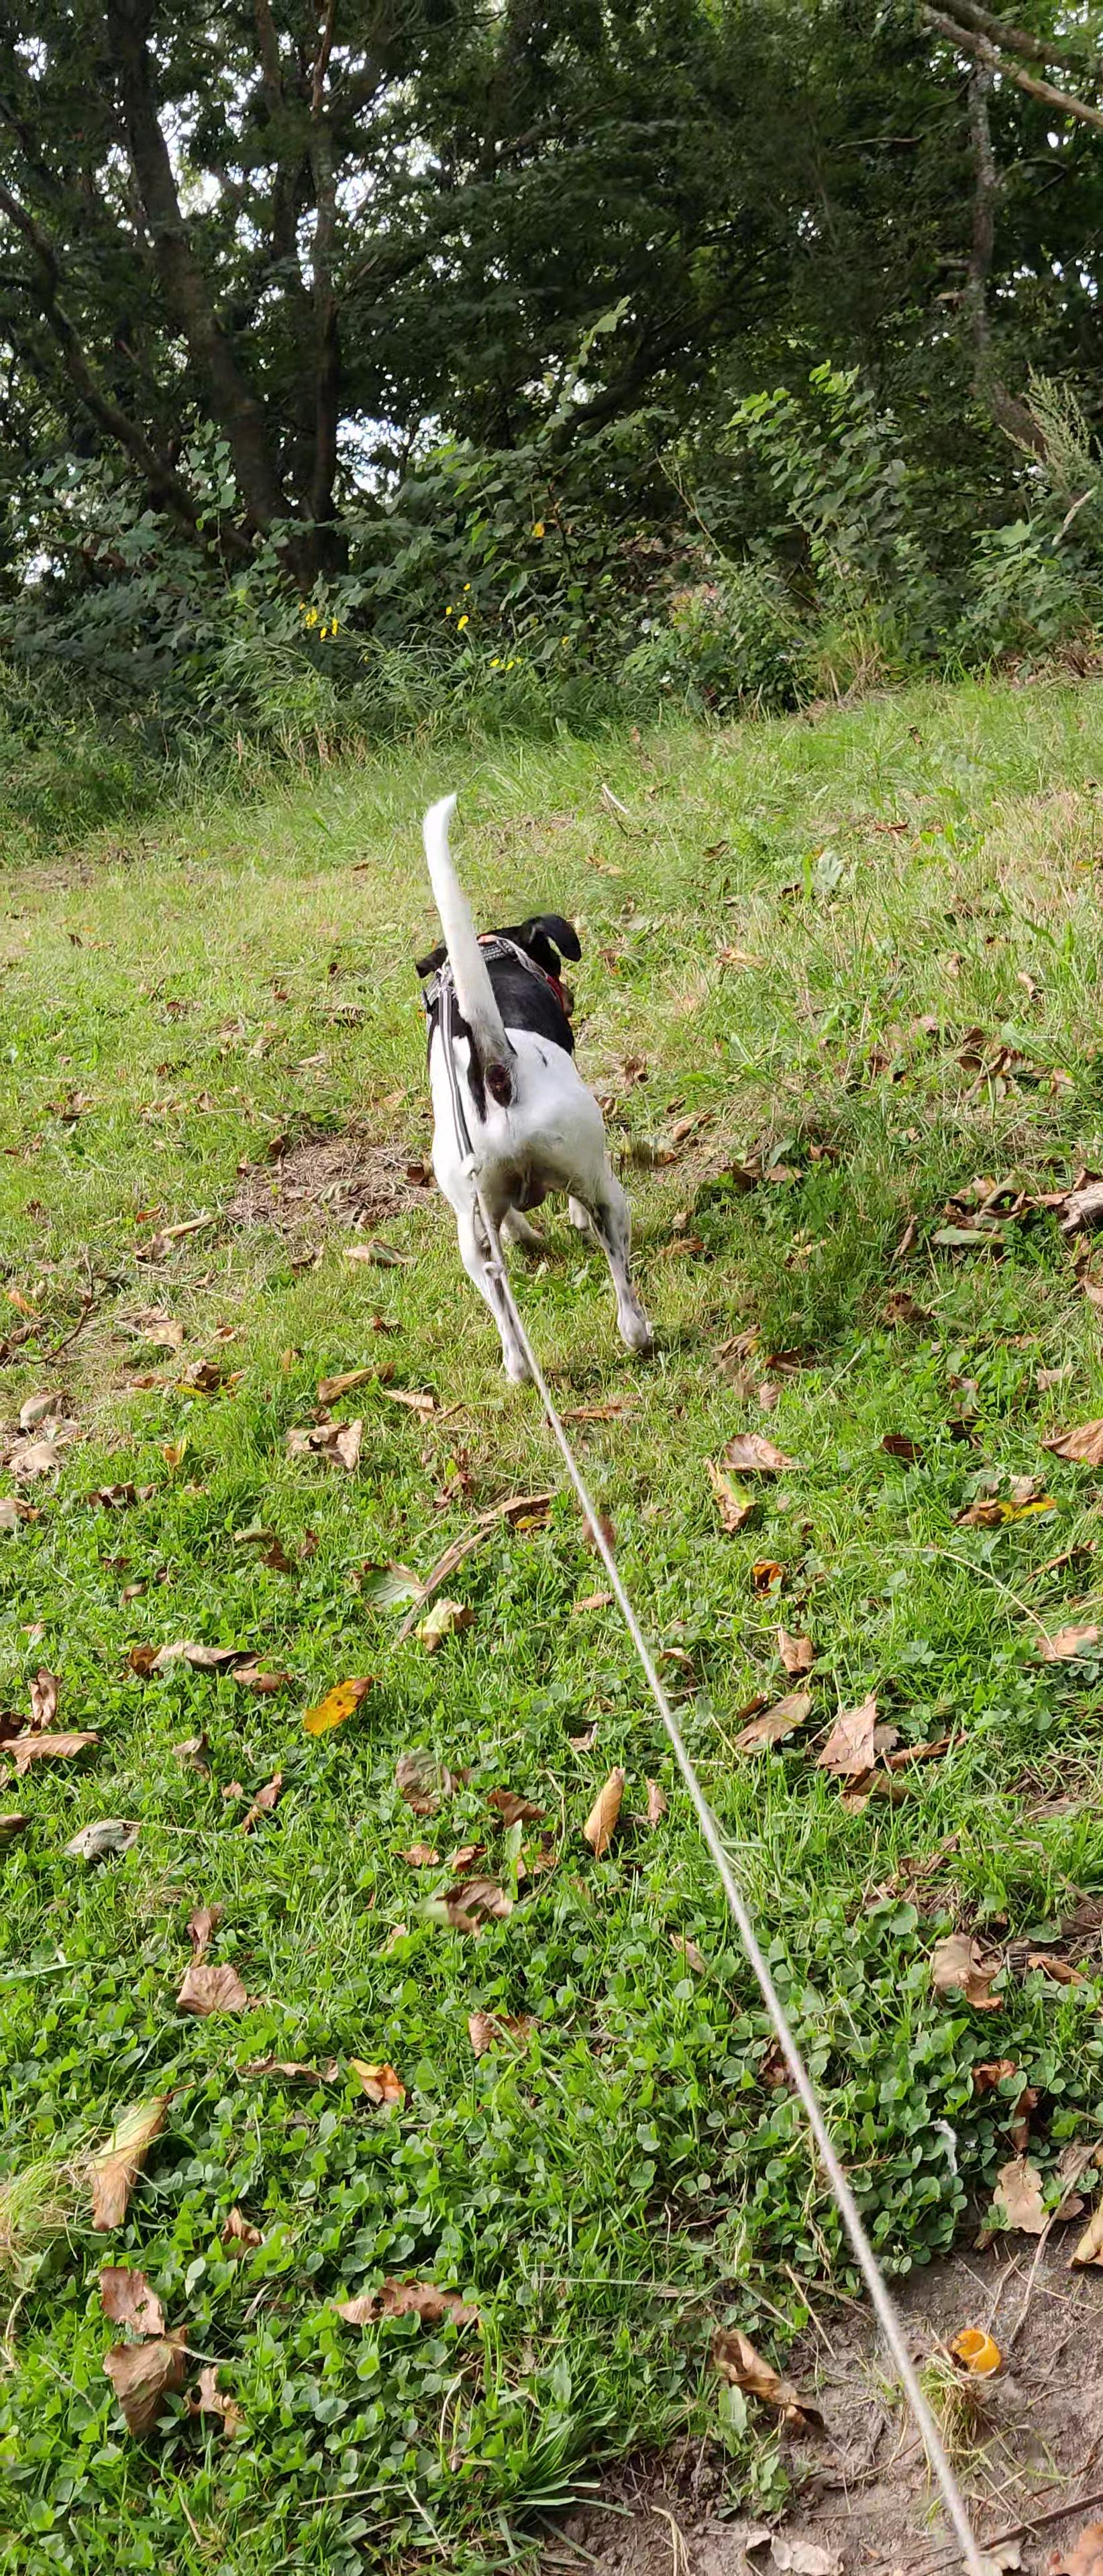Dog: (358, 761, 702, 1418)
